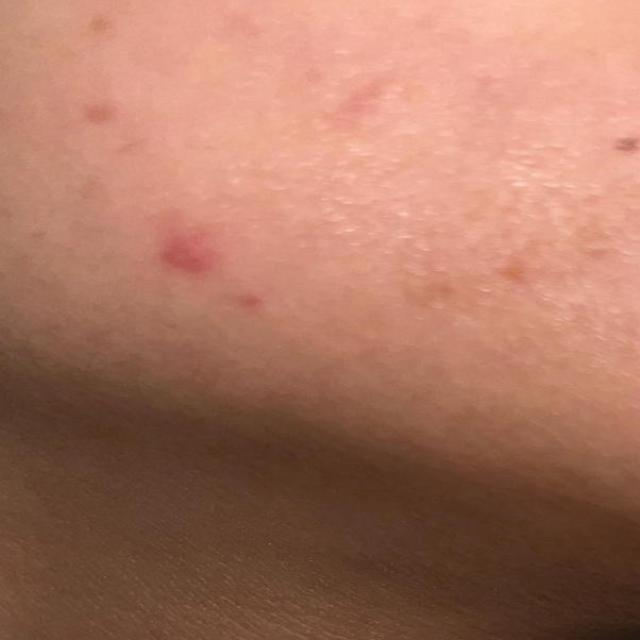papule: (85, 192, 281, 301)
